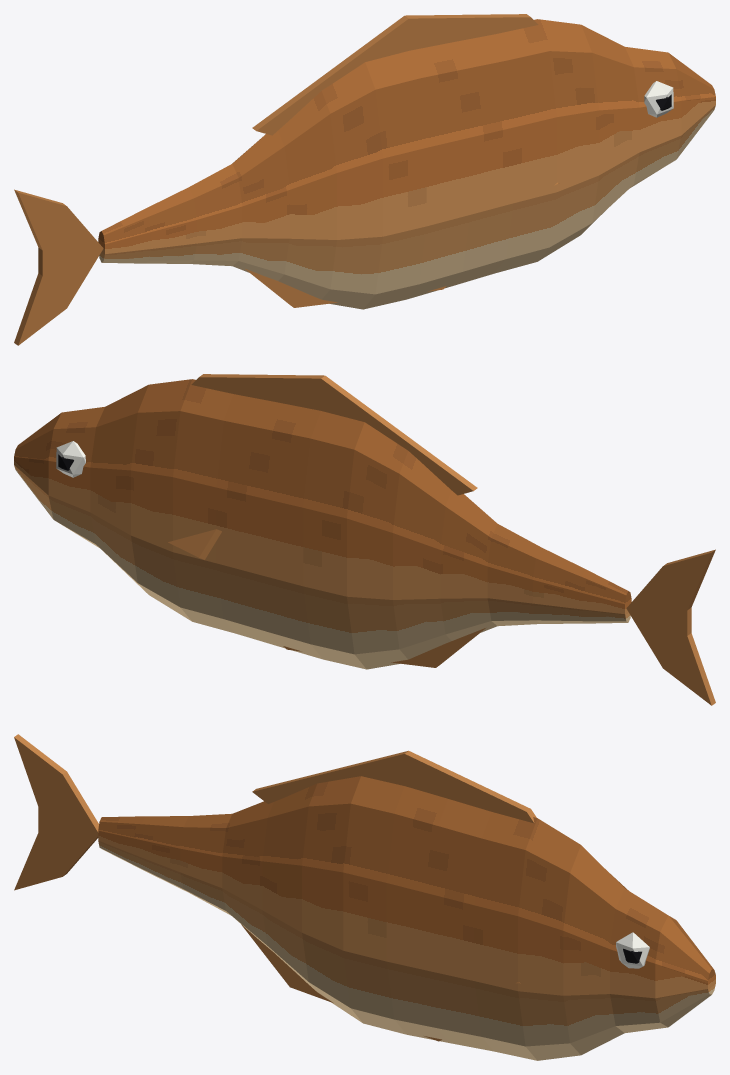
Rendered from copper_sweeper.glb.
3 renders of one model, top to bottom at view 1: azimuth 30°, elevation 25°; view 2: azimuth 150°, elevation 25°; view 3: azimuth 330°, elevation 25°, orthographic.
Parts seen in each view (by area): view 1: fish_copper_sweeper; view 2: fish_copper_sweeper; view 3: fish_copper_sweeper.
Boxes of the visible parts, left/top/right/bottom form: fish_copper_sweeper: left=14, top=14, right=715, bottom=345; fish_copper_sweeper: left=14, top=374, right=715, bottom=705; fish_copper_sweeper: left=14, top=734, right=715, bottom=1060.
Bounding box in the file's own units: 1.14 × 0.4423 × 0.1417.
4 materials, 1 textured.
